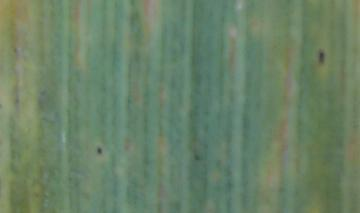tarspot: (11, 73, 21, 110), (316, 46, 325, 67), (10, 44, 20, 60), (190, 151, 202, 162), (95, 144, 104, 157), (127, 1, 137, 8)
